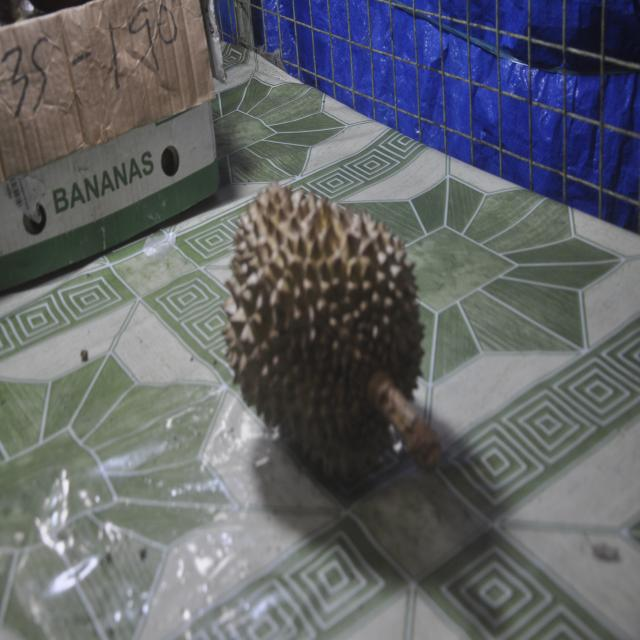mature: (224, 184, 440, 482)
